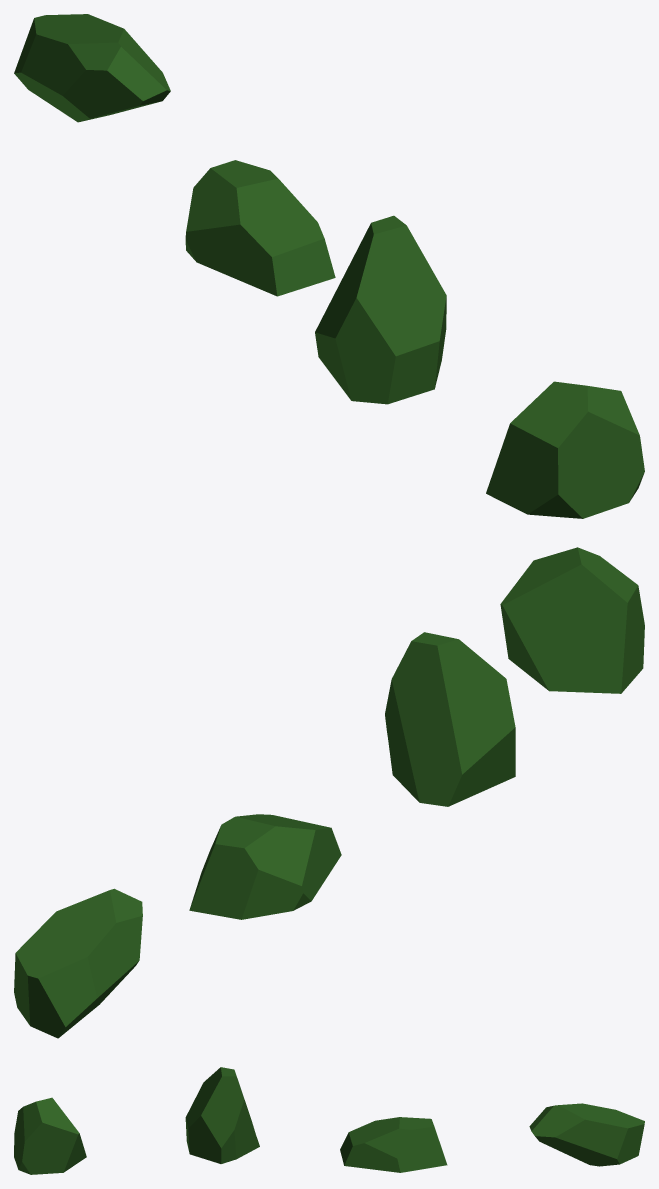
The model's file is malaaa.fbx.
3 views of the same model, one above another, from view 1: azimuth 30°, elevation 25°; view 2: azimuth 150°, elevation 25°; view 3: azimuth 270°, elevation 25° (orthographic). The views are drawn at different scales.
Visible parts, largest first — view 1: Medium_Rock03, Medium_Rock04, Medium_Rock02, Medium_Rock01; view 2: Medium_Rock03, Medium_Rock04, Medium_Rock01, Medium_Rock02; view 3: Medium_Rock01, Medium_Rock03, Medium_Rock02, Medium_Rock04.
Part boxes in pixels (box(x1,y1,x2,y2)): Medium_Rock03: box(315, 215, 446, 404); Medium_Rock04: box(486, 381, 644, 518); Medium_Rock02: box(185, 160, 335, 296); Medium_Rock01: box(14, 14, 170, 122); Medium_Rock03: box(385, 632, 515, 806); Medium_Rock04: box(500, 547, 644, 693); Medium_Rock01: box(14, 888, 142, 1038); Medium_Rock02: box(189, 814, 341, 919); Medium_Rock01: box(529, 1103, 644, 1166); Medium_Rock03: box(185, 1067, 259, 1163); Medium_Rock02: box(340, 1117, 447, 1172); Medium_Rock04: box(14, 1097, 86, 1174).
Bounding box in the file's own units: 158 × 156 × 1059.
